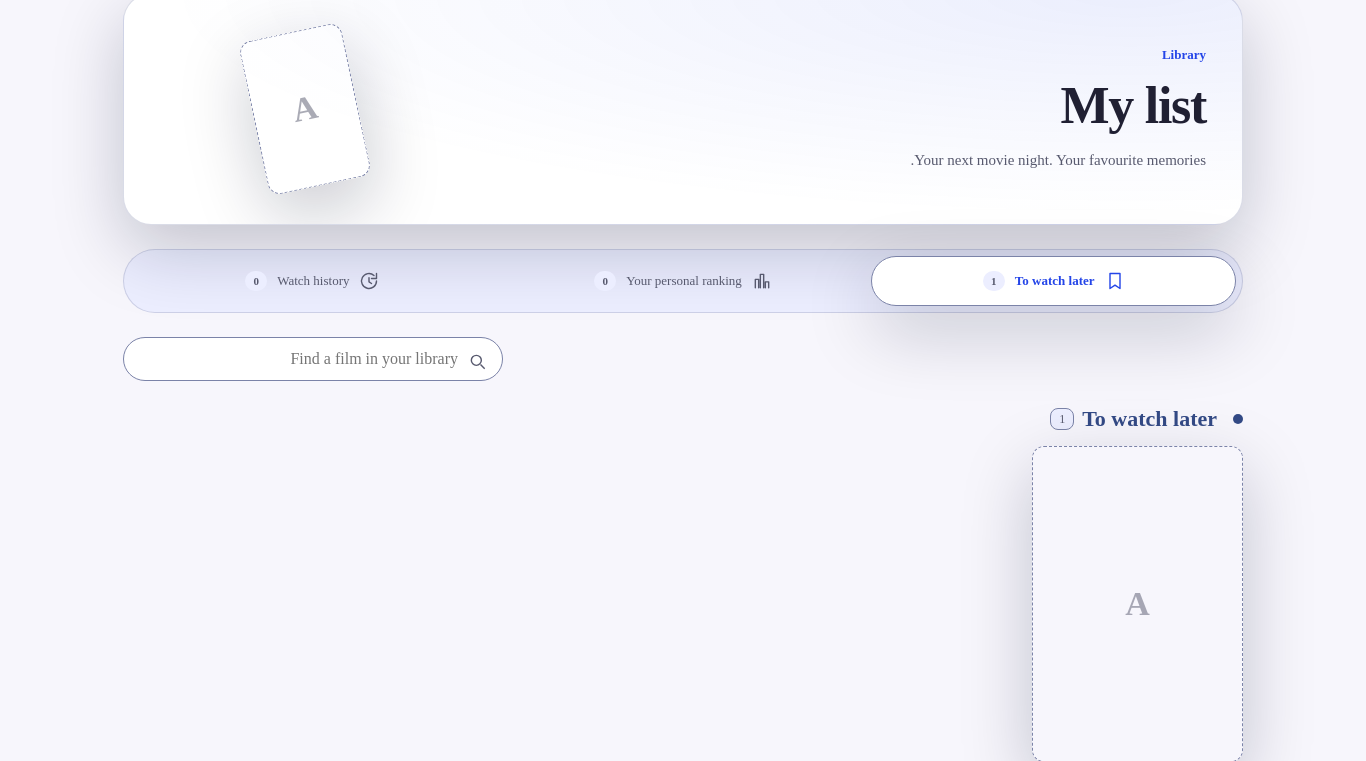
Test: visual library navigation › shows one library section at a time and preserves the saved collection across tabs
The image size is (1366, 761).
Click the tab "Watch history 0" at (312, 281), box 130,256 -> 495,306
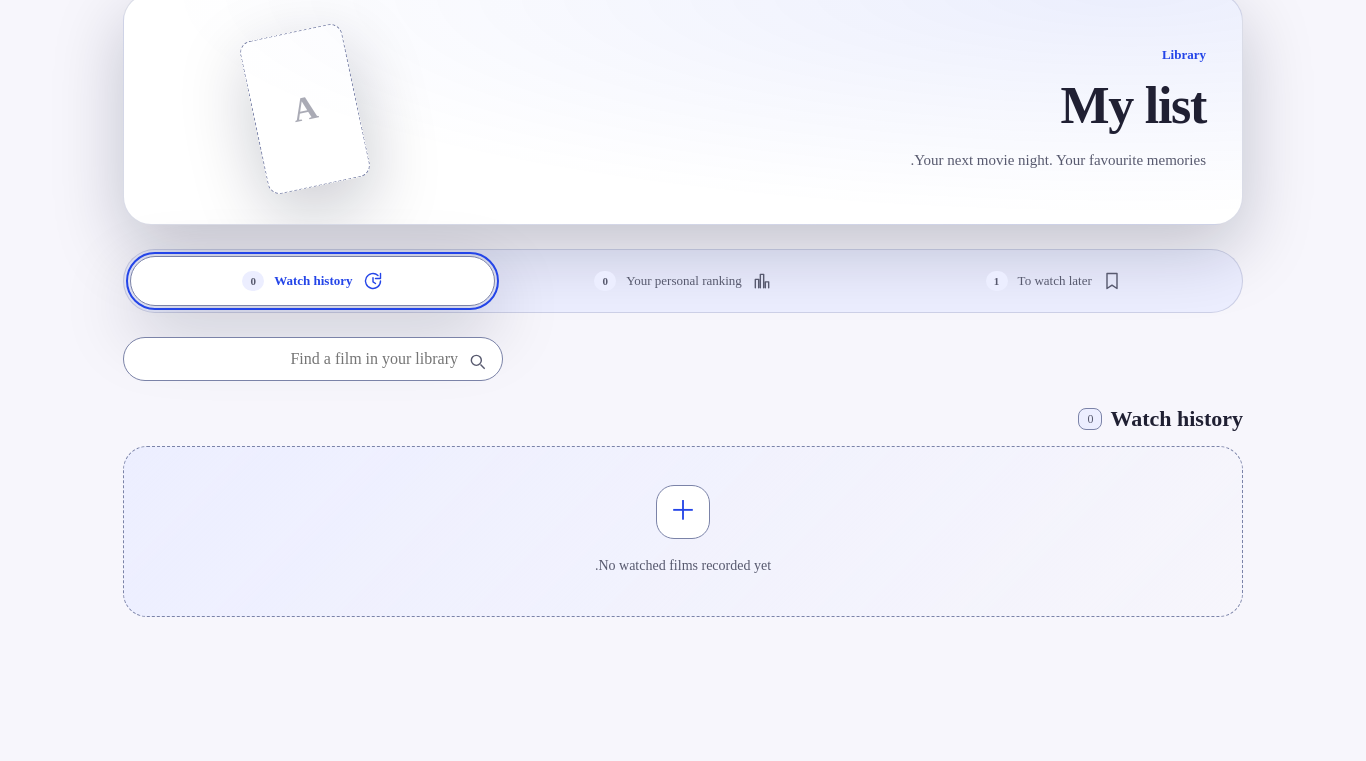
Result: the text "No watched films recorded yet." is shown at 123,446 -> 1243,617
Click the tab "To watch later 1" at (1054, 281), box 871,256 -> 1236,306
(page scrolled)
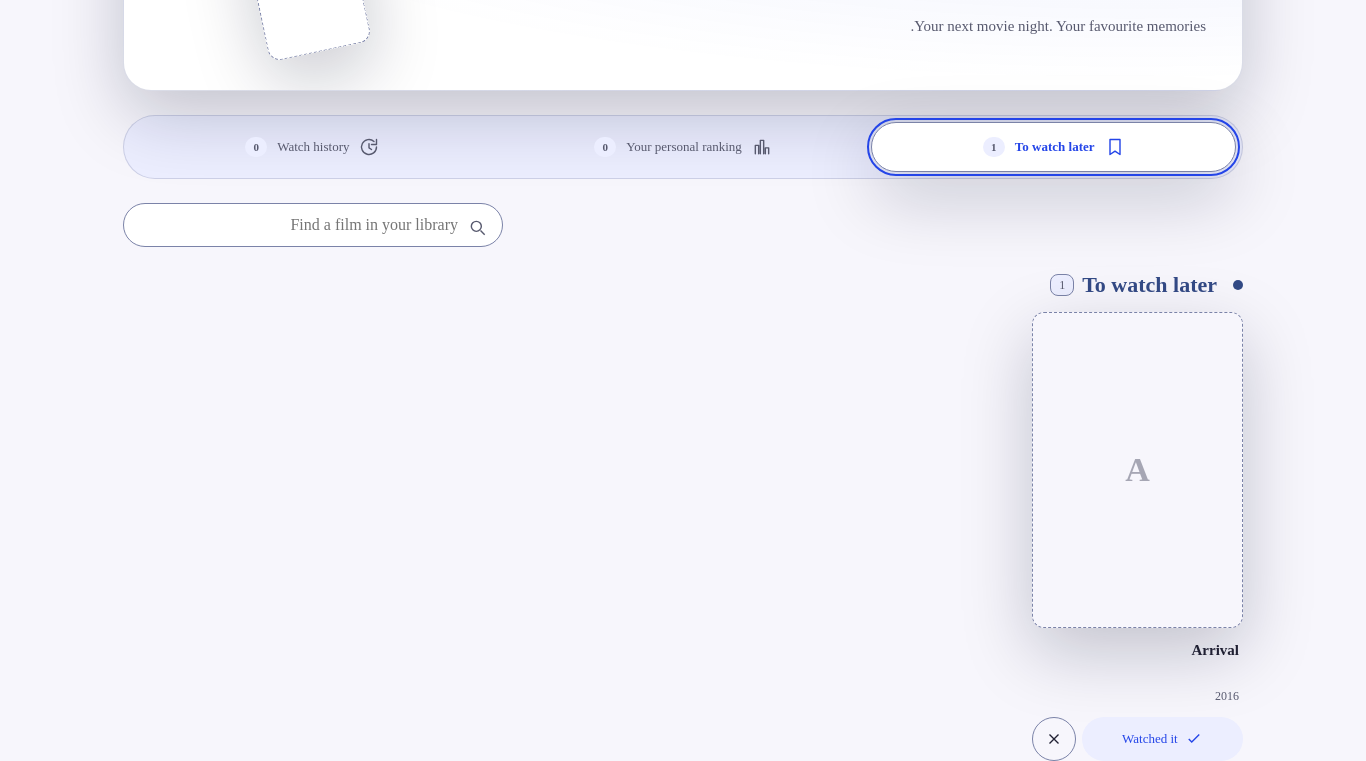
Result: the heading "Arrival" is shown at 1192,642 -> 1239,658
